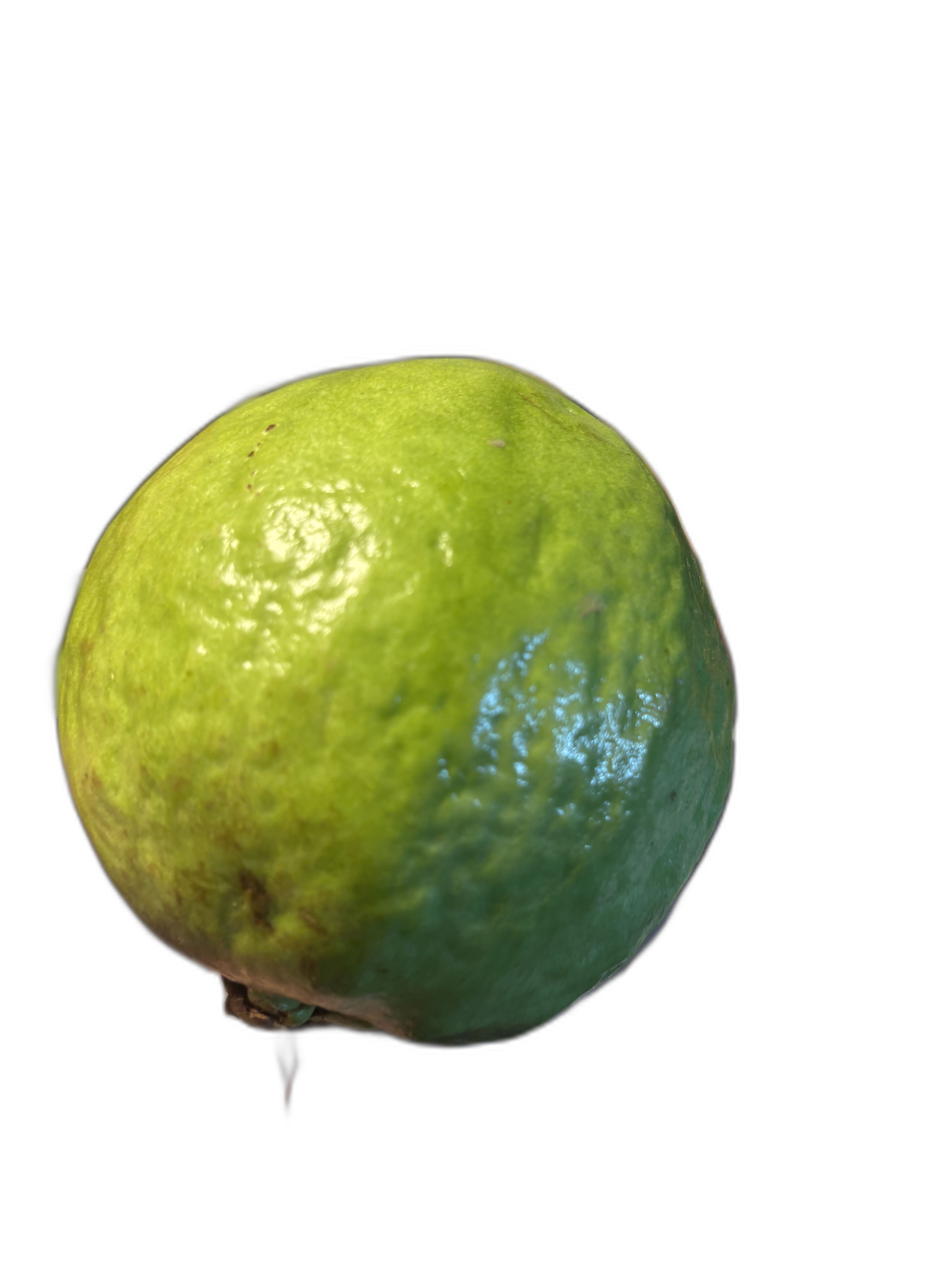guava: (128, 147, 726, 934)
